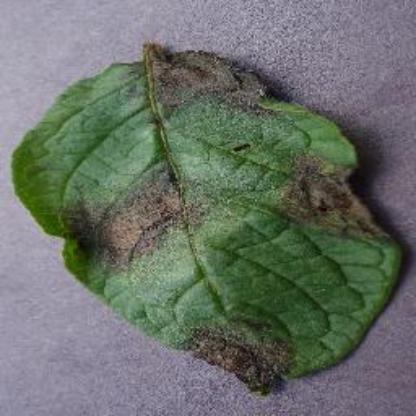Late-Blight: (19, 34, 405, 394)
